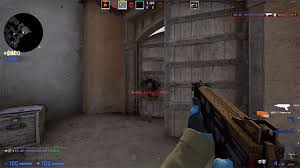gun: (189, 78, 287, 167)
